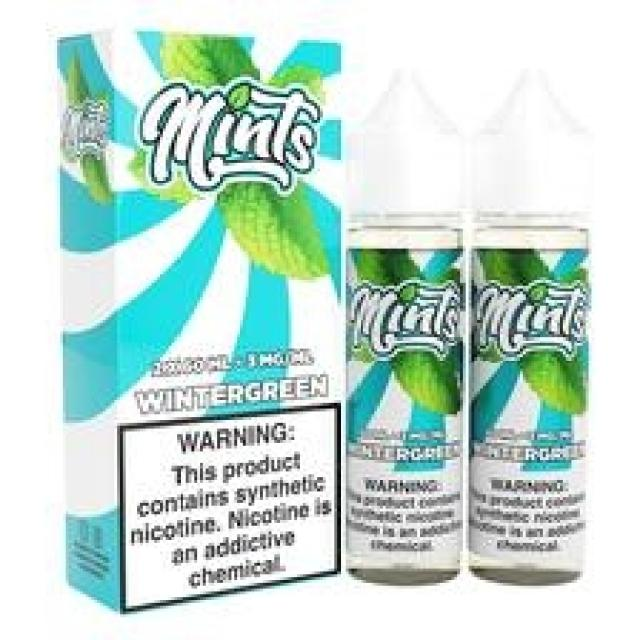Hazard: (54, 23, 349, 614)
